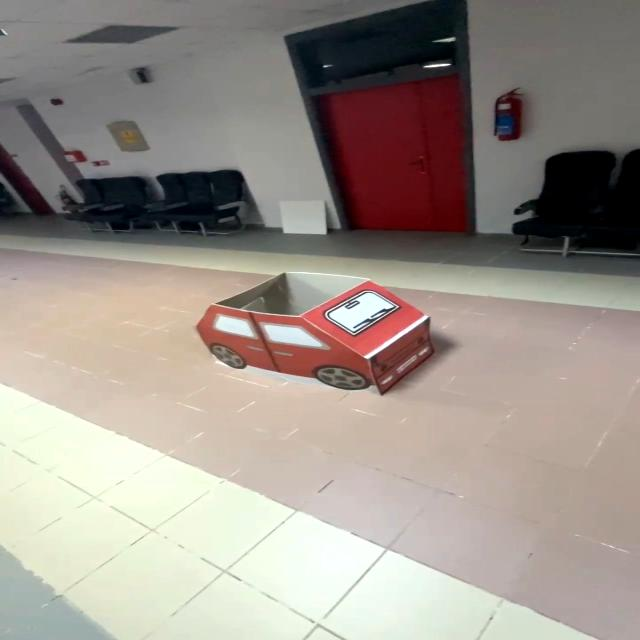red_car: (171, 262, 488, 410)
